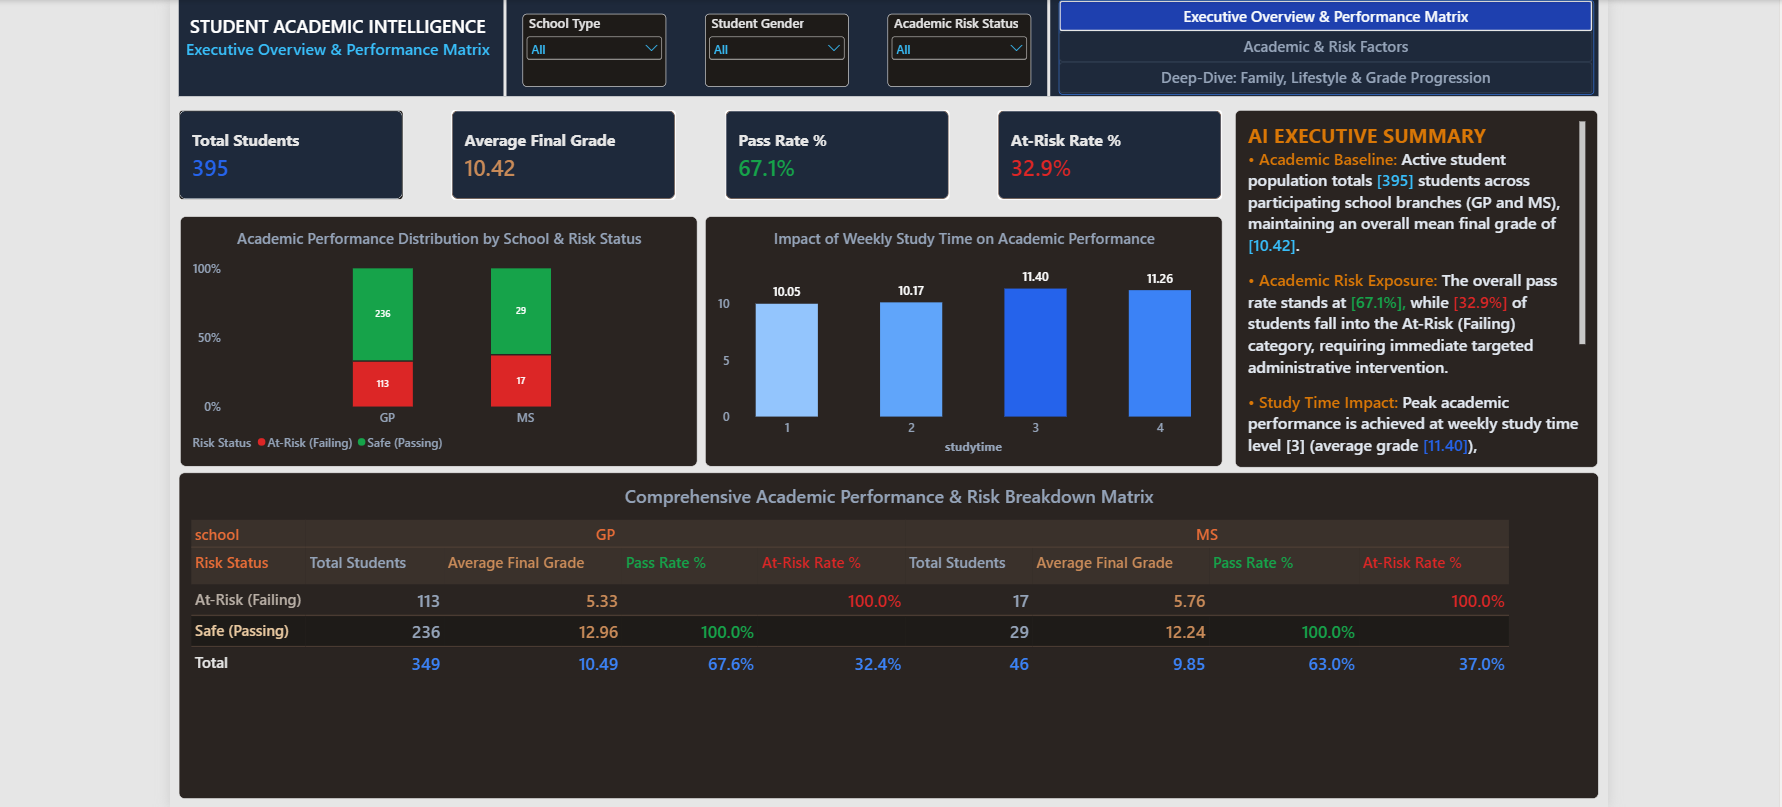

The page's visual inventory and layout, read from the dashboard file:
{"tool":"powerbi","page":{"name":"Executive Overview & Performance Matrix","canvas":[1920,1080],"ordinal":0},"visuals":[{"type":"shape","box":[10.9,0,1896.5,128.5],"z":0},{"type":"textbox","box":[12.7,18.1,421.7,97.7],"z":1000},{"type":"shape","box":[329.4,0,237.1,128.5],"z":2000},{"type":"slicer","fields":{"Values":["student.school"]},"box":[470.5,18.1,191.8,97.7],"z":3000},{"type":"slicer","fields":{"Values":["student.sex"]},"box":[714.8,18.1,191.8,97.7],"z":4000},{"type":"slicer","fields":{"Values":["student.Risk Status"]},"box":[959.1,18.1,191.8,97.7],"z":5000},{"type":"shape","box":[1055,0,237.1,128.5],"z":6000},{"type":"pageNavigator","box":[1187.1,0,714.8,126.7],"z":7000},{"type":"cardVisual","fields":{"Data":["Key Measuares.Total Students"]},"box":[10.9,146.6,300,120],"z":8000},{"type":"cardVisual","fields":{"Data":["Key Measuares.Average Final Grade"]},"box":[375.8,146.6,300,120],"z":9000},{"type":"cardVisual","fields":{"Data":["Key Measuares.Pass Rate %"]},"box":[740.8,146.6,300,120],"z":10000},{"type":"cardVisual","fields":{"Data":["Key Measuares.At-Risk Rate %"]},"box":[1105.7,146.6,300,120],"z":11000},{"type":"hundredPercentStackedColumnChart","title":"Academic Performance Distribution by School & Risk Status","fields":{"Category":["student.school"],"Series":["student.Risk Status"],"Y":["Key Measuares.Total Students"]},"box":[12.7,289.5,691,334],"z":12000},{"type":"columnChart","title":"Impact of Weekly Study Time on Academic Performance","fields":{"Category":["student.studytime"],"Y":["Key Measuares.Average Final Grade"]},"box":[714.8,289.5,691.3,334],"z":13000},{"type":"textbox","box":[1422.4,146.6,485,477.8],"z":14000},{"type":"pivotTable","title":"Comprehensive Academic Performance & Risk Breakdown Matrix","fields":{"Columns":["student.school"],"Rows":["student.Risk Status"],"Values":["Key Measuares.Total Students","Key Measuares.Average Final Grade","Key Measuares.Pass Rate %","Key Measuares.At-Risk Rate %"]},"box":[10.9,631.6,1896.5,436.1],"z":15000}]}

Visuals, with their boxes on the page's 1920x1080 design canvas (x1, y1, x2, y2). These are canvas units, not pixel positions in the 1782x807 screenshot, which may show the page scaled, cropped or inside an application window:
shape: 11, 0, 1907, 128
textbox: 13, 18, 434, 116
shape: 329, 0, 566, 128
slicer - student.school: 470, 18, 662, 116
slicer - student.sex: 715, 18, 907, 116
slicer - student.Risk Status: 959, 18, 1151, 116
shape: 1055, 0, 1292, 128
pageNavigator: 1187, 0, 1902, 127
cardVisual - Key Measuares.Total Students: 11, 147, 311, 267
cardVisual - Key Measuares.Average Final Grade: 376, 147, 676, 267
cardVisual - Key Measuares.Pass Rate %: 741, 147, 1041, 267
cardVisual - Key Measuares.At-Risk Rate %: 1106, 147, 1406, 267
"Academic Performance Distribution by School & Risk Status" hundredPercentStackedColumnChart: 13, 290, 704, 624
"Impact of Weekly Study Time on Academic Performance" columnChart: 715, 290, 1406, 624
textbox: 1422, 147, 1907, 624
"Comprehensive Academic Performance & Risk Breakdown Matrix" pivotTable: 11, 632, 1907, 1068
